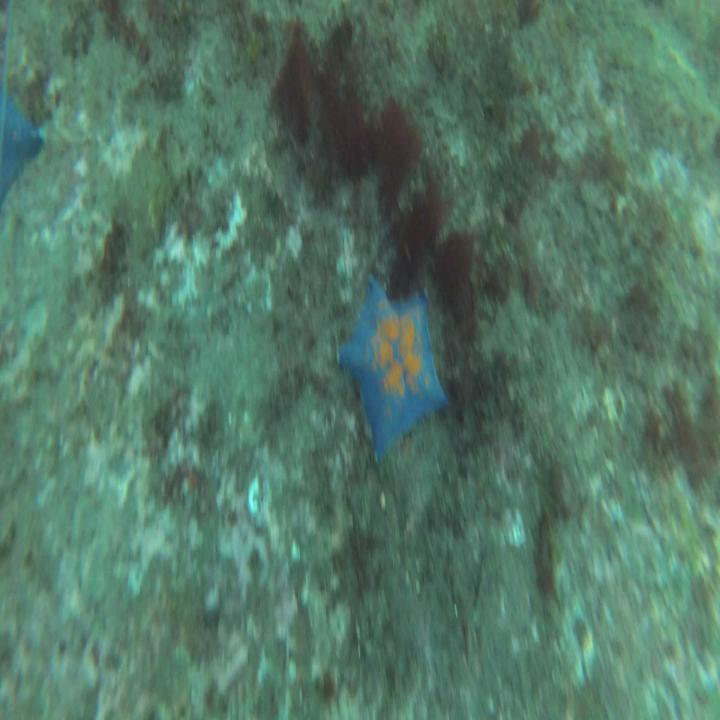starfish: (341, 280, 445, 456), (0, 86, 44, 211)
